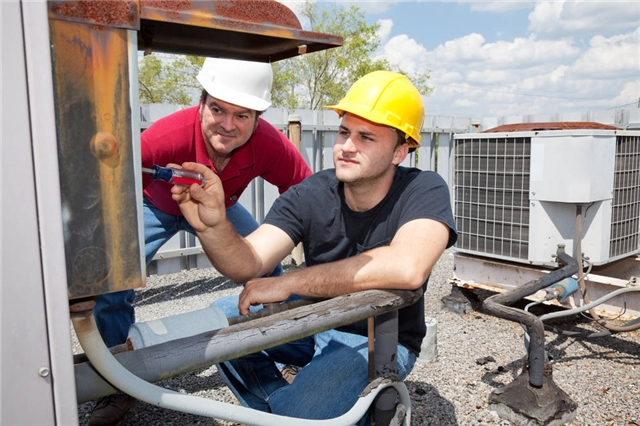boots: (87, 392, 136, 426)
hard-hat: (321, 69, 425, 148), (195, 57, 273, 112)
person: (168, 68, 459, 424), (87, 56, 313, 424)
